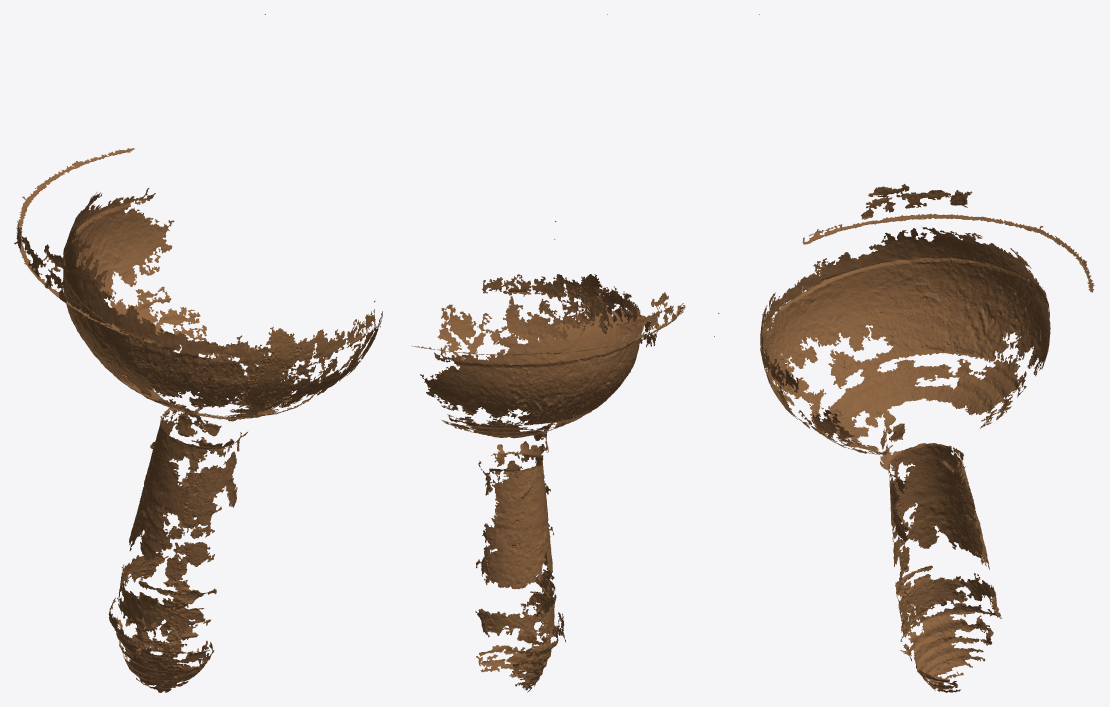
Rendered from Thai_Libation_Vessel_V4_FINAL.glb.
The picture shows the model from 3 angles, left to right: view 1: azimuth 30°, elevation 25°; view 2: azimuth 150°, elevation 25°; view 3: azimuth 270°, elevation 25°; orthographic projection. The views are drawn at different scales.
Parts seen in each view (by area): view 1: SM_V4_Vessel_LOD0; view 2: SM_V4_Vessel_LOD0; view 3: SM_V4_Vessel_LOD0.
Boxes of the visible parts, x1,y1,x2,y2 form: SM_V4_Vessel_LOD0: [14, 14, 382, 692]; SM_V4_Vessel_LOD0: [411, 14, 685, 692]; SM_V4_Vessel_LOD0: [714, 14, 1094, 692].
Bounding box in the file's own units: 0.703 × 1.65 × 0.846.
